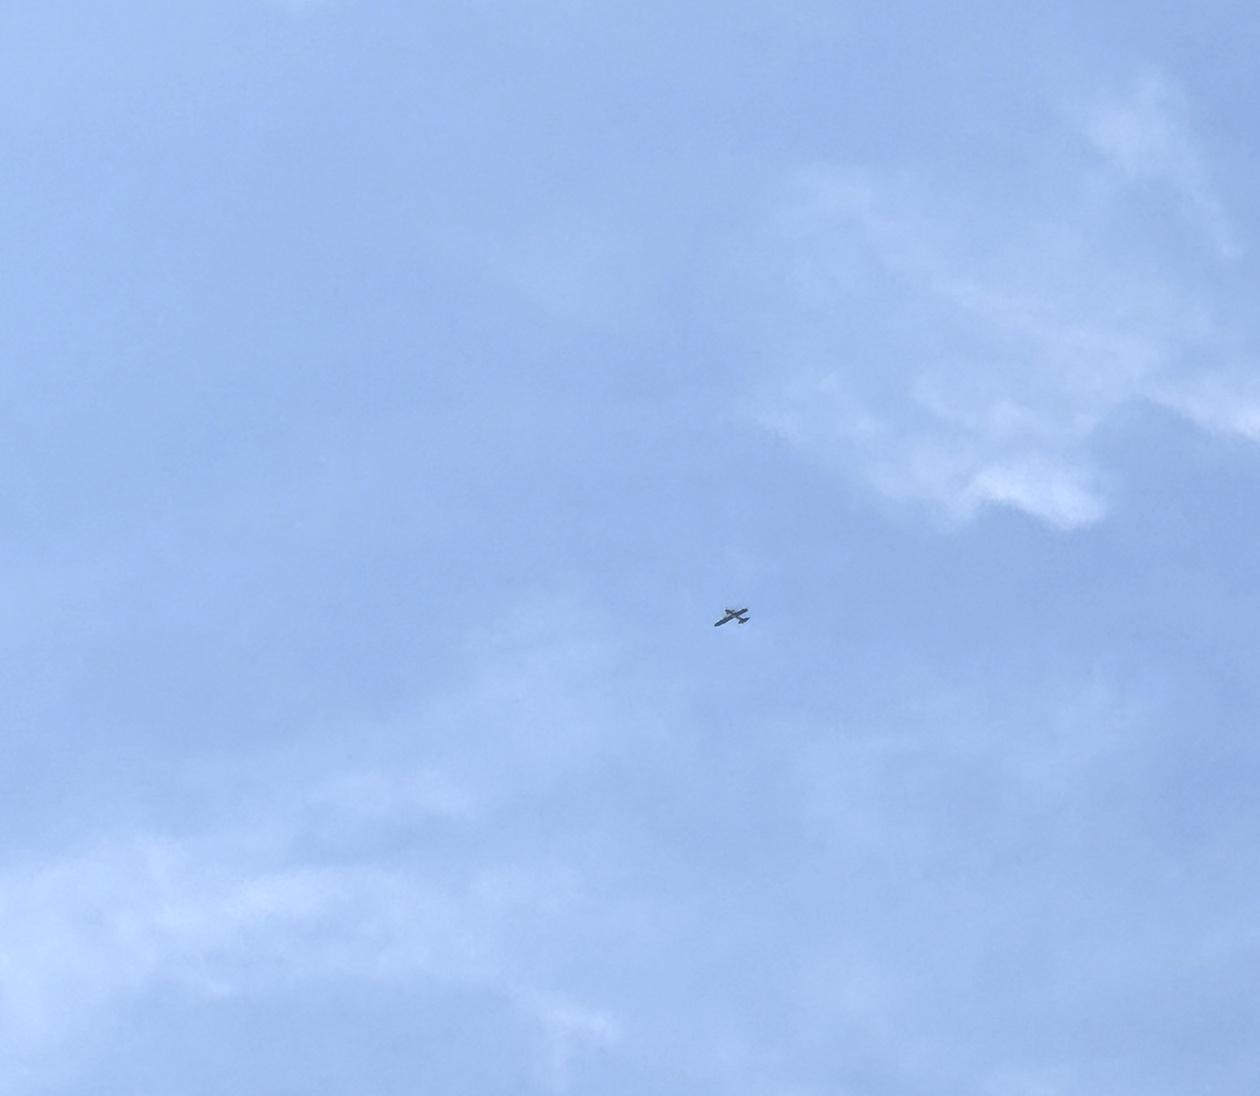Plane: (693, 590, 772, 645)
